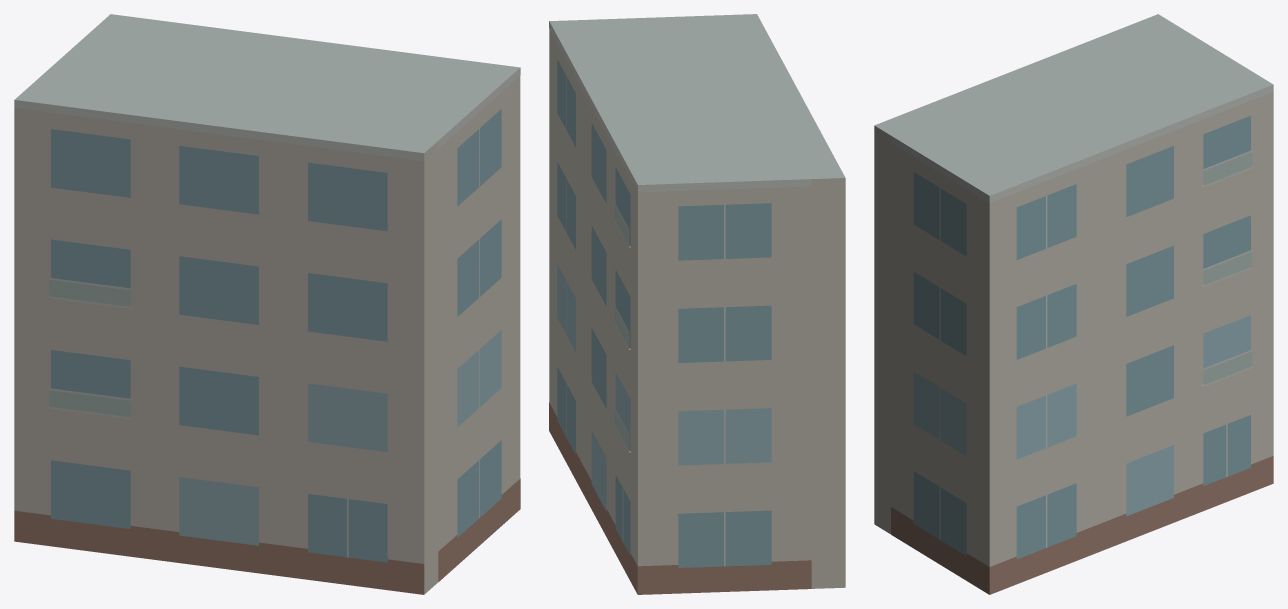
File: survey-upis-32777437.glb
The picture shows the model from 3 angles, left to right: view 1: azimuth 30°, elevation 25°; view 2: azimuth 150°, elevation 25°; view 3: azimuth 270°, elevation 25°; orthographic projection. The views are drawn at different scales.
Parts seen in each view (by area): view 1: survey-upis-32777437.tmp; view 2: survey-upis-32777437.tmp; view 3: survey-upis-32777437.tmp.
Boxes of the visible parts, bbox=[...] form: survey-upis-32777437.tmp: bbox=[14, 14, 520, 594]; survey-upis-32777437.tmp: bbox=[549, 14, 845, 594]; survey-upis-32777437.tmp: bbox=[874, 14, 1273, 594].
Size of the model in its own units: 13.21 by 13.5 by 12.25.
